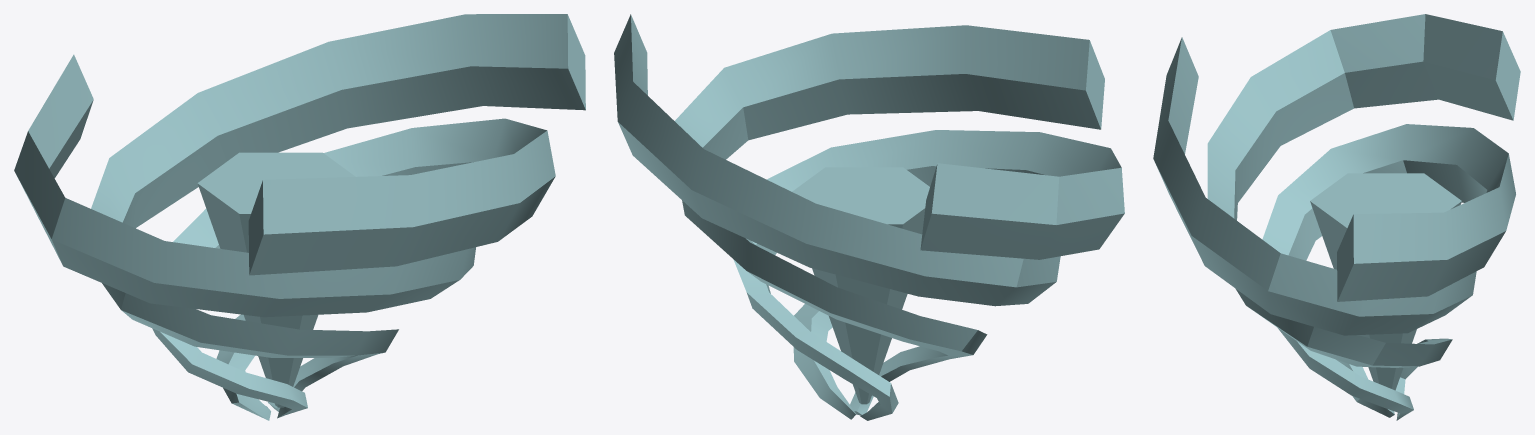
The model's file is vey_tail.fbx.
3 renders of one model, left to right at view 1: azimuth 30°, elevation 25°; view 2: azimuth 150°, elevation 25°; view 3: azimuth 270°, elevation 25°, orthographic. The views are drawn at different scales.
Visible parts, largest first — view 1: vey_tail; view 2: vey_tail; view 3: vey_tail.
Part boxes in pixels (x1,y1,x2,y2): vey_tail: (14, 14, 585, 420); vey_tail: (614, 14, 1124, 420); vey_tail: (1153, 14, 1520, 420).
Size of the model in its own units: 1.12 by 0.7033 by 0.725.
